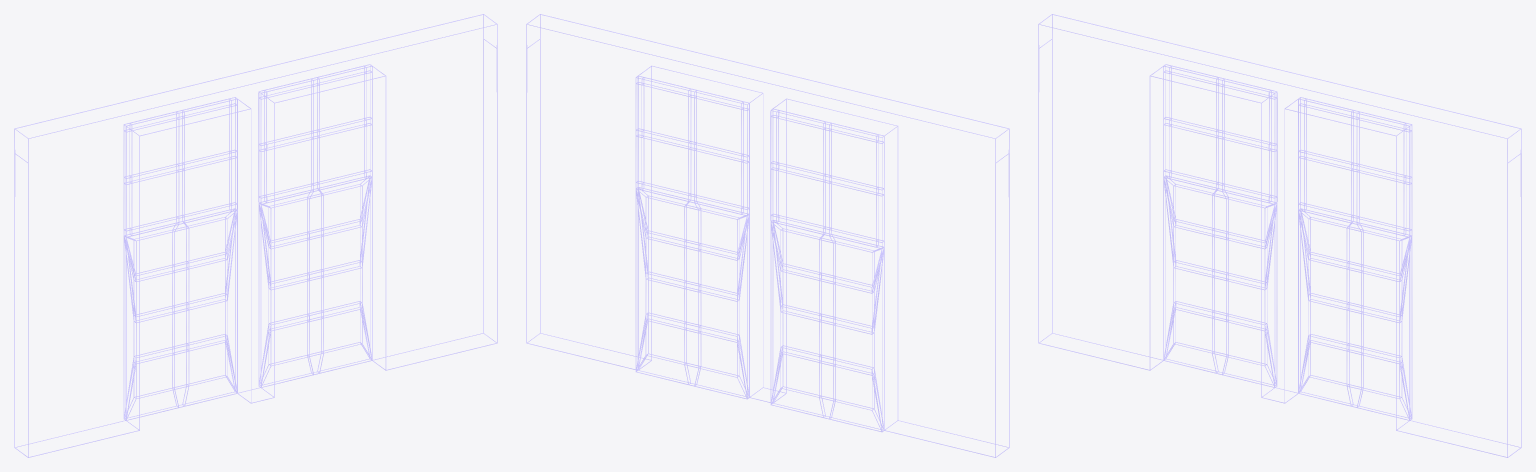
Rendered from door.glb.
The picture shows the model from 3 angles, left to right: view 1: azimuth 30°, elevation 25°; view 2: azimuth 150°, elevation 25°; view 3: azimuth 330°, elevation 25°; orthographic projection.
Parts seen in each view (by area): view 1: door; view 2: door; view 3: door.
Part boxes in pixels (box(x1,y1,x2,y2)): door: box(14, 14, 497, 457); door: box(526, 14, 1009, 457); door: box(1038, 14, 1521, 457).
Bounding box in the file's own units: 4.24 × 2.76 × 0.2501.
